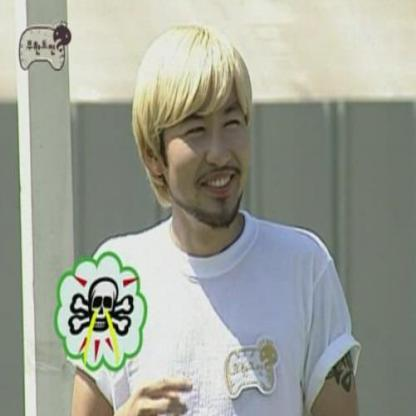skull: (67, 276, 135, 339)
